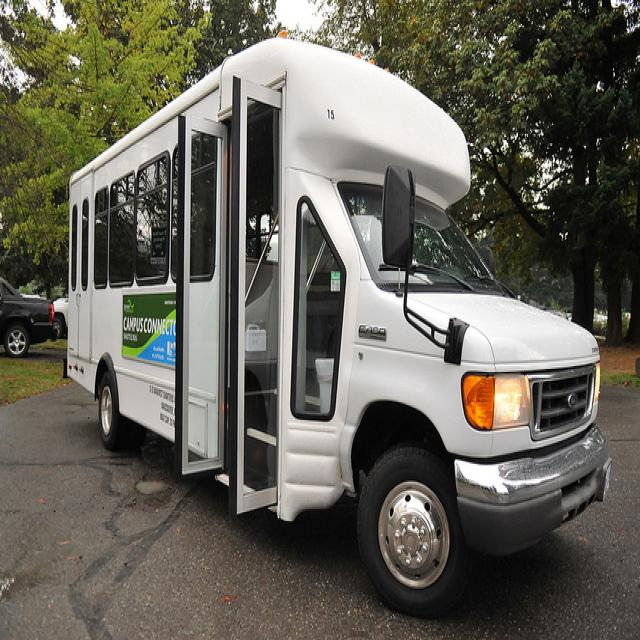Vehicle: (63, 37, 611, 615), (0, 276, 60, 358), (53, 299, 64, 340)
